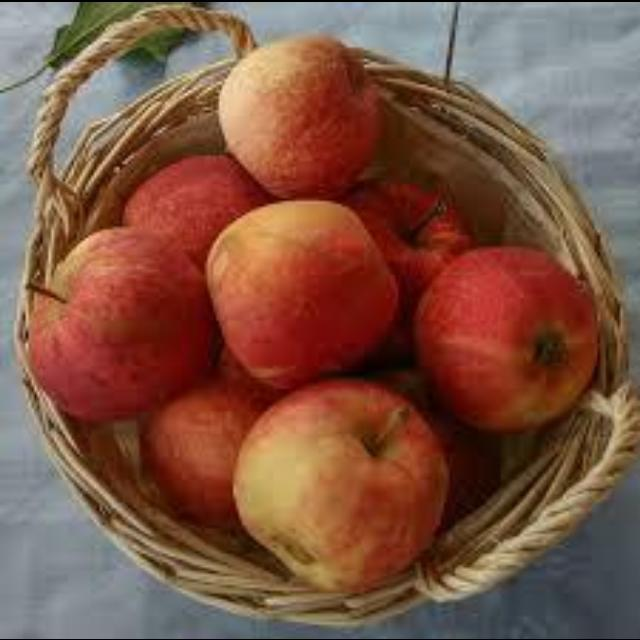apple: (233, 376, 447, 590), (28, 226, 216, 419), (205, 200, 395, 385), (415, 248, 592, 428), (219, 32, 378, 197), (139, 348, 279, 527), (341, 177, 472, 317), (122, 155, 270, 268)
